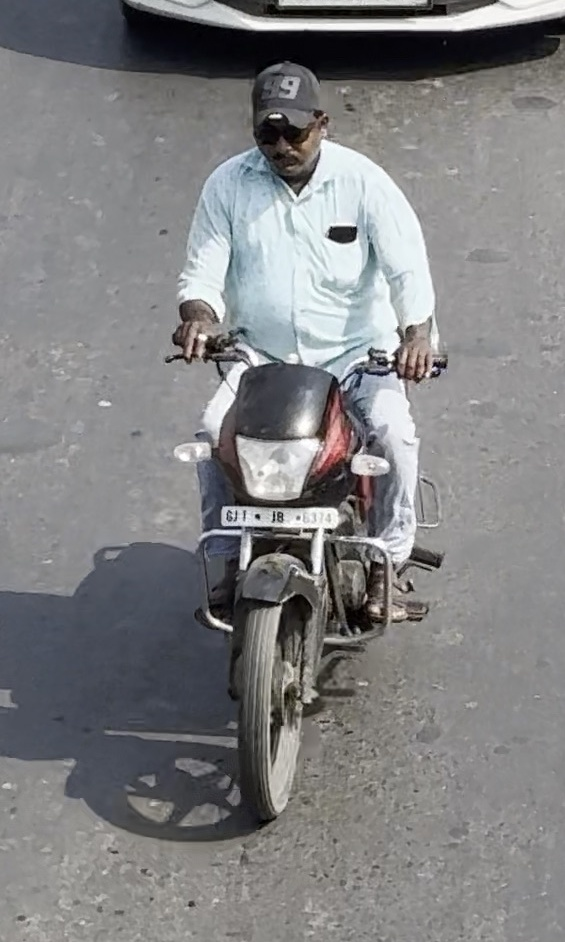BikeWithRider: (161, 47, 451, 840)
NoHelmet: (237, 53, 343, 192)
